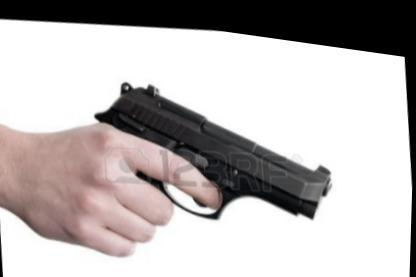pistol: (57, 45, 344, 262)
